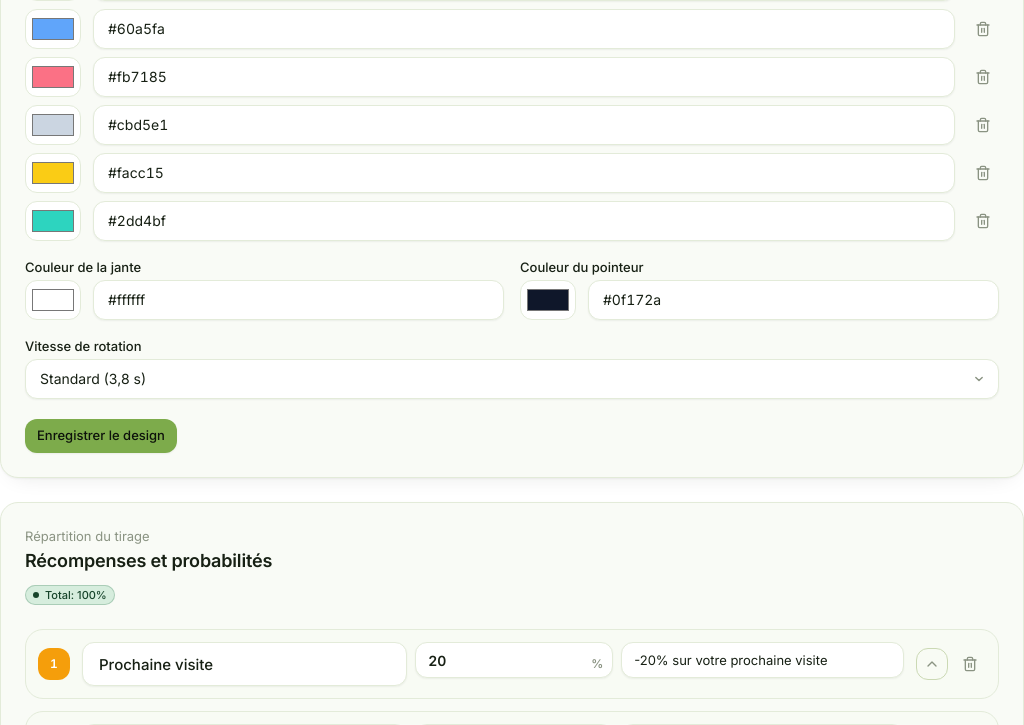
it: wheel configuration page › saves a custom design through the wheel-theme PUT
(page scrolled)
Select "Rapide (2 s)" in the dropdown labelled "Vitesse de rotation" at (512, 379), box [25,359,999,399]
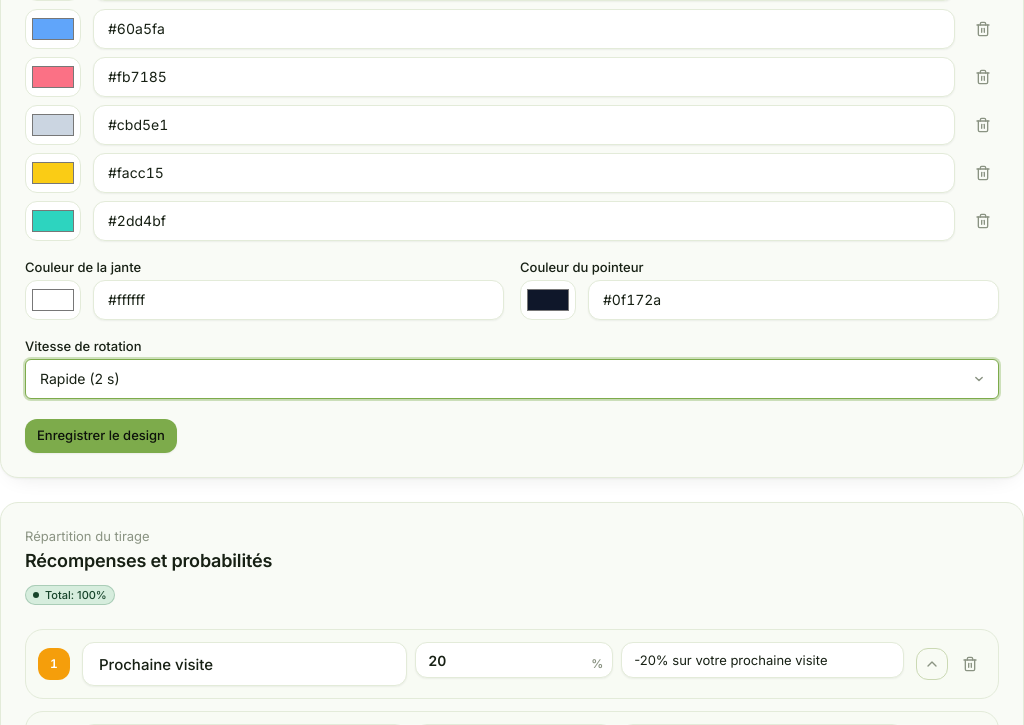
Click the button "Enregistrer le design".
click(101, 436)  # box [25,419,177,453]
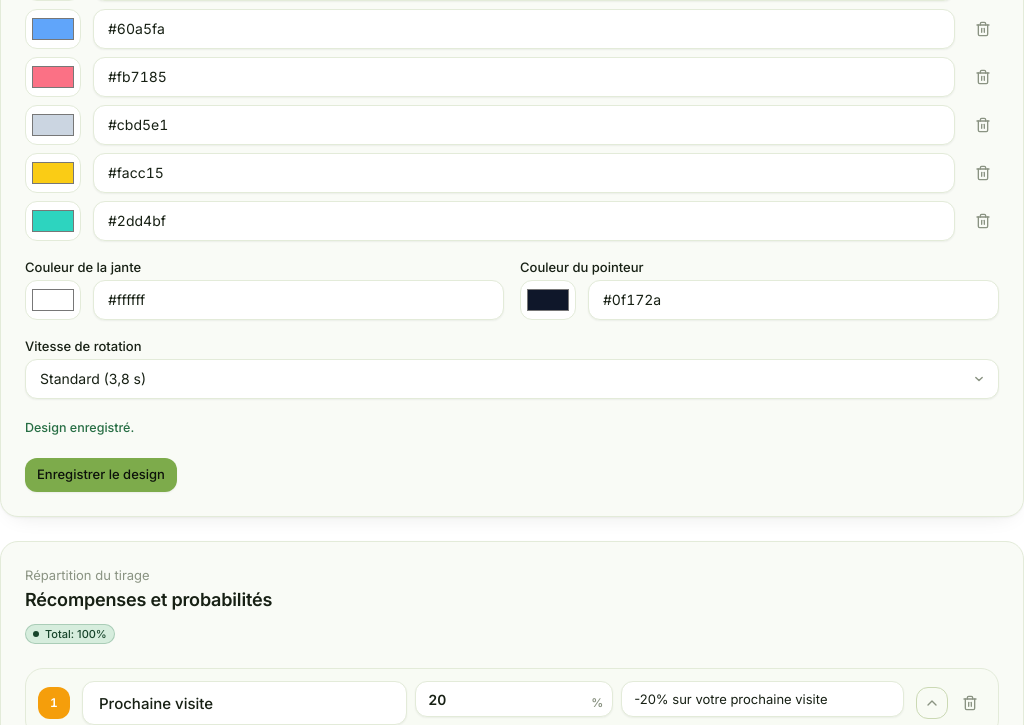
Expected: the text "Design enregistré." is shown, [25,420,134,435]
